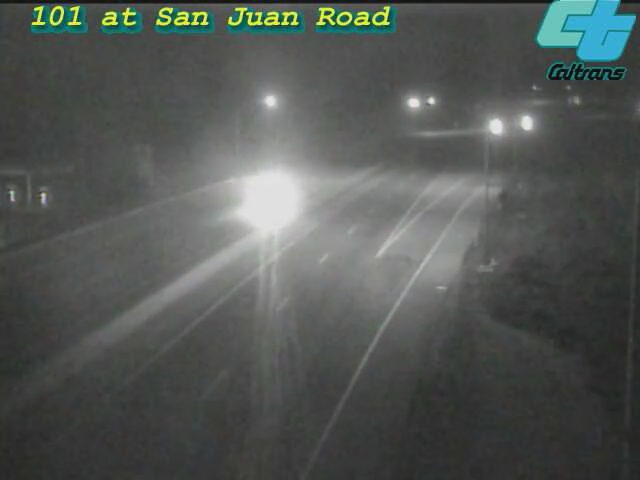vehicle: (223, 161, 303, 241), (469, 102, 519, 152), (499, 98, 549, 148)
